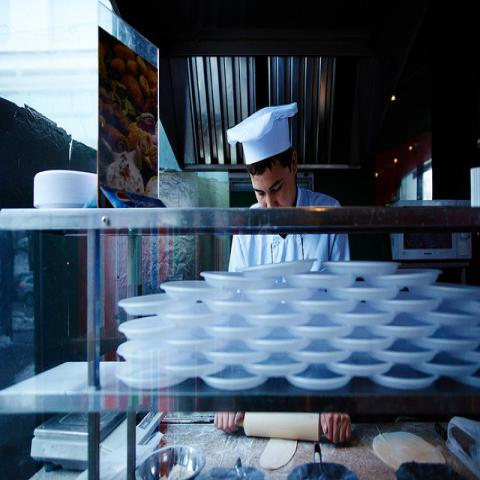car: (14, 274, 34, 305)
